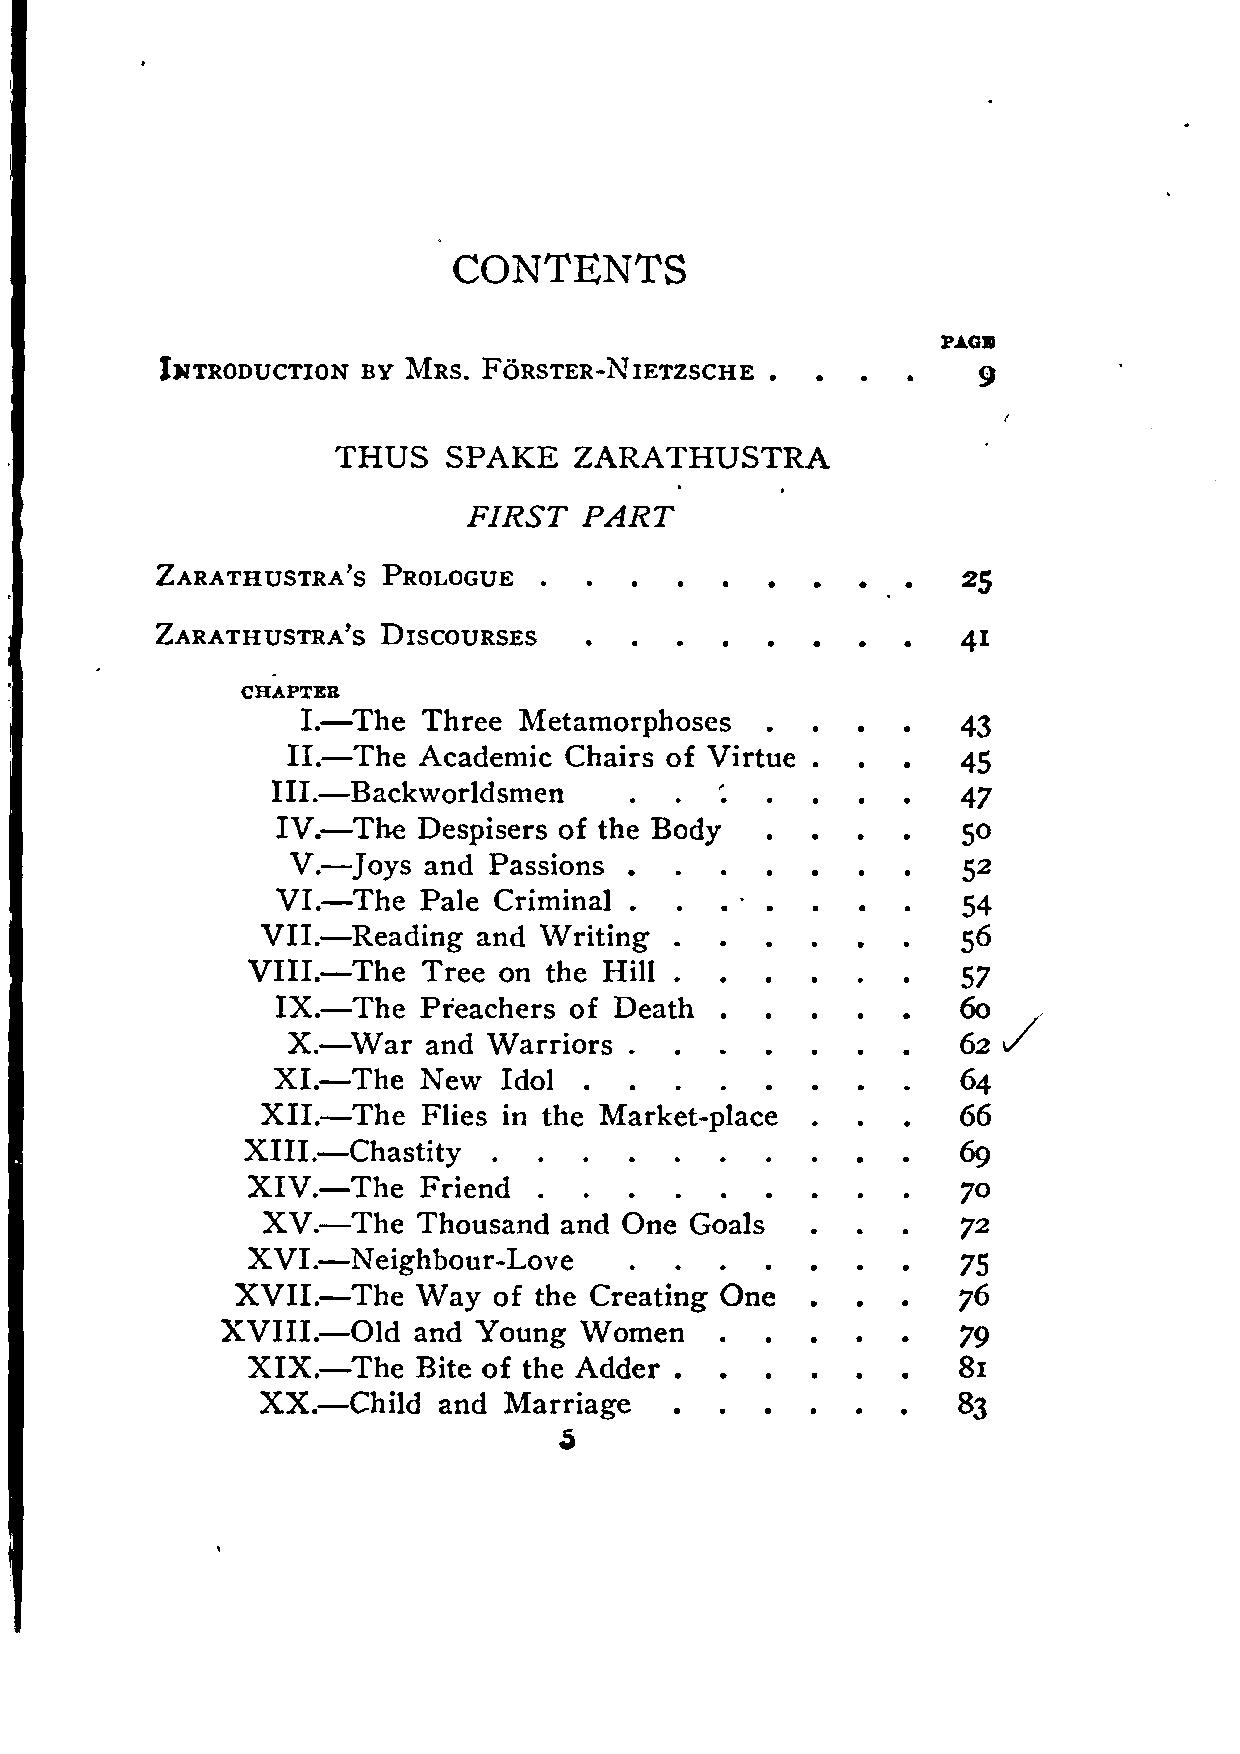TOC_chapter: (327, 433, 833, 535), (152, 350, 757, 385), (232, 1279, 778, 1312), (258, 1099, 778, 1133), (219, 1314, 684, 1347), (258, 1208, 765, 1237), (283, 739, 794, 768), (271, 813, 721, 844), (149, 613, 539, 647), (272, 990, 696, 1021), (295, 705, 735, 734), (258, 919, 652, 951), (246, 956, 658, 984), (260, 1388, 632, 1418), (244, 1354, 662, 1380), (275, 883, 613, 913), (282, 1028, 617, 1057), (152, 560, 514, 586), (268, 1062, 560, 1092), (270, 778, 568, 808), (294, 849, 603, 878), (242, 1245, 578, 1271), (246, 1172, 513, 1200), (239, 1135, 459, 1168)
TOC_pagenumber: (954, 707, 993, 739), (951, 1388, 990, 1418), (960, 561, 993, 596), (957, 620, 990, 655), (958, 1138, 992, 1170), (955, 1066, 990, 1096), (954, 1282, 990, 1311), (969, 358, 1001, 391), (957, 922, 989, 953), (960, 854, 993, 883), (958, 1028, 992, 1057), (955, 749, 993, 774), (957, 1215, 992, 1241), (957, 819, 992, 844), (957, 891, 989, 918), (958, 994, 992, 1020), (958, 1100, 992, 1126), (958, 1181, 992, 1206), (958, 1323, 992, 1349), (958, 1251, 986, 1279), (955, 965, 990, 986), (961, 782, 988, 809), (957, 1353, 985, 1378)
chapter: (454, 250, 688, 285)
content_pagenumber: (557, 1425, 578, 1453)
